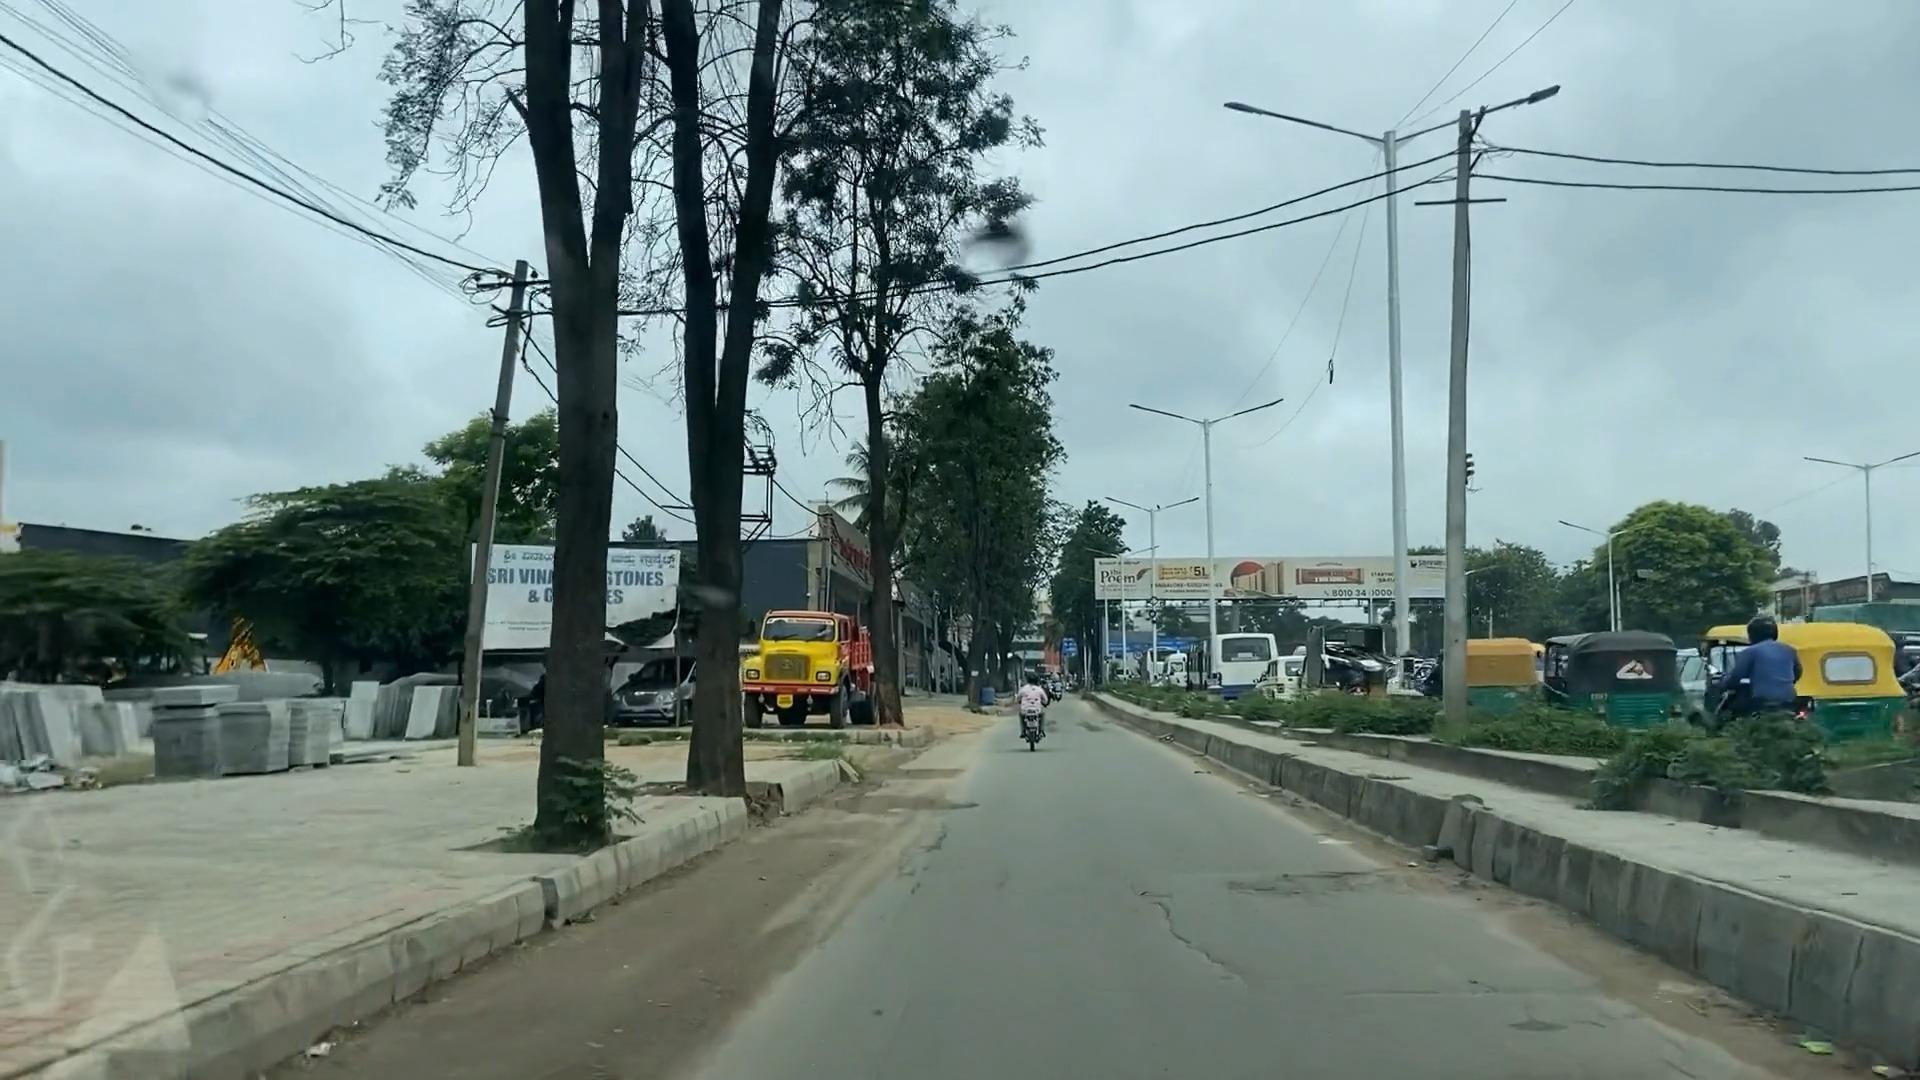RoadDamages: (1154, 840, 1439, 955)
